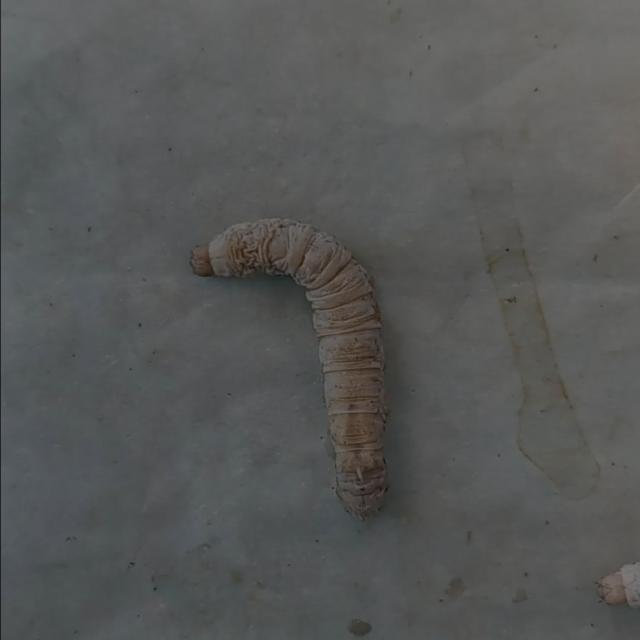Grasserie: (180, 198, 416, 530)
